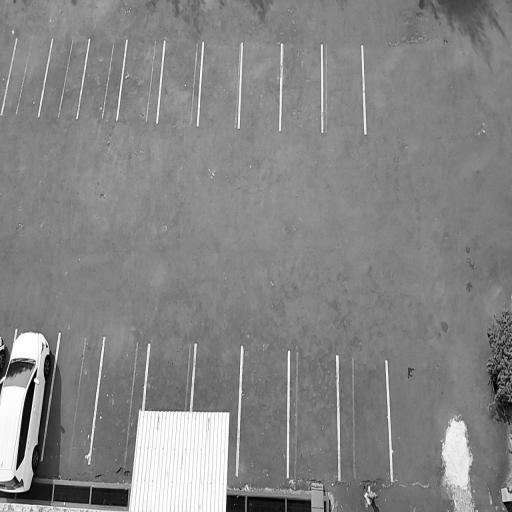Space Available: (41, 330, 105, 463), (89, 335, 146, 466), (338, 354, 393, 484), (236, 344, 289, 477), (288, 351, 339, 482), (76, 37, 127, 119), (39, 38, 90, 119), (1, 36, 53, 115), (322, 43, 366, 134), (158, 38, 204, 125), (197, 42, 242, 127), (117, 38, 164, 119), (142, 339, 195, 410), (239, 42, 282, 128), (192, 338, 241, 412), (281, 43, 322, 131)
